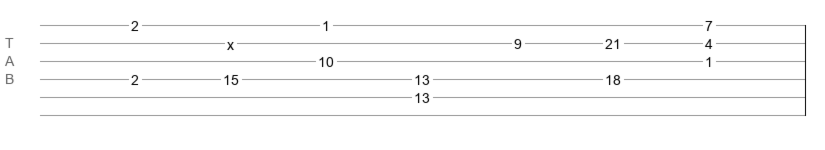1: (322, 18, 330, 28), (705, 54, 713, 64)
10: (318, 54, 334, 64)
13: (414, 90, 430, 100), (414, 72, 430, 82)
15: (223, 72, 239, 82)
18: (605, 72, 621, 82)
2: (131, 72, 139, 82), (131, 18, 139, 28)
21: (605, 36, 621, 46)
4: (705, 36, 713, 46)
7: (705, 18, 713, 28)
9: (514, 36, 522, 46)
x: (227, 37, 234, 45)
